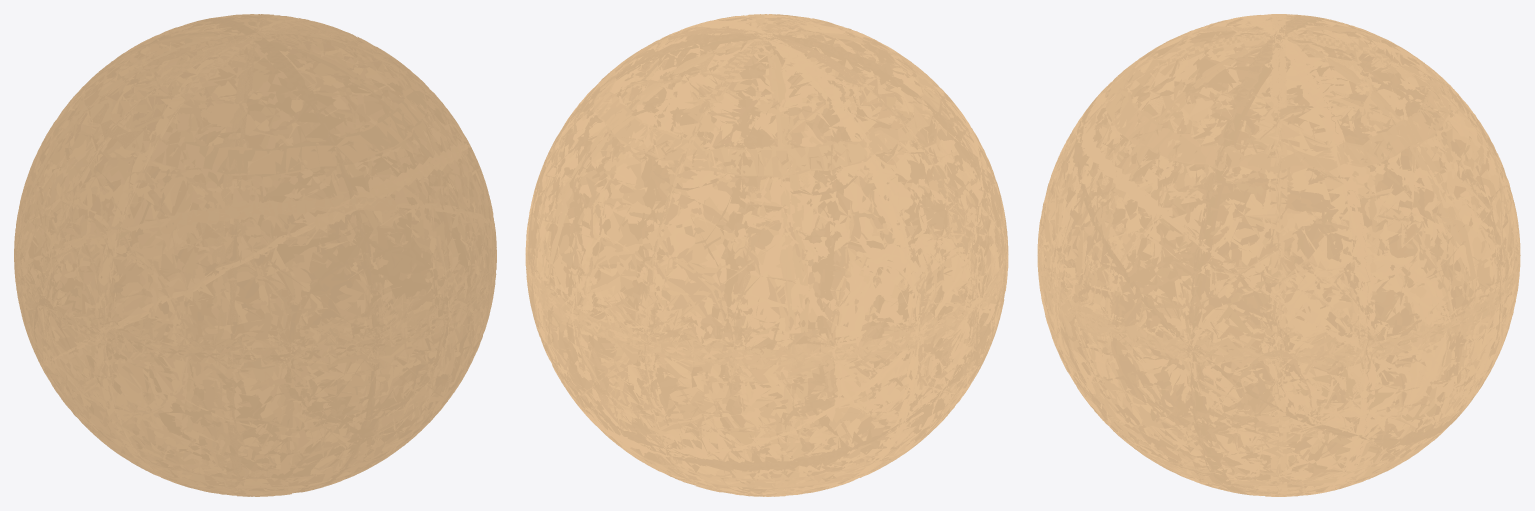
3 views of the same model, side by side, from view 1: azimuth 30°, elevation 25°; view 2: azimuth 150°, elevation 25°; view 3: azimuth 270°, elevation 25° (orthographic).
Parts seen in each view (by area): view 1: conductor_guide; view 2: conductor_guide; view 3: conductor_guide.
Boxes of the visible parts, x1=… form: conductor_guide: x1=14, y1=14, x2=496, y2=496; conductor_guide: x1=525, y1=14, x2=1008, y2=496; conductor_guide: x1=1037, y1=14, x2=1520, y2=496.
Bounding box in the file's own units: 2 × 2 × 2.
